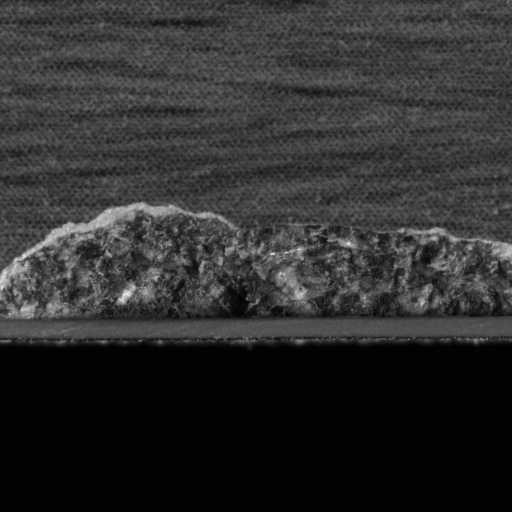bengque: (3, 200, 511, 322)
